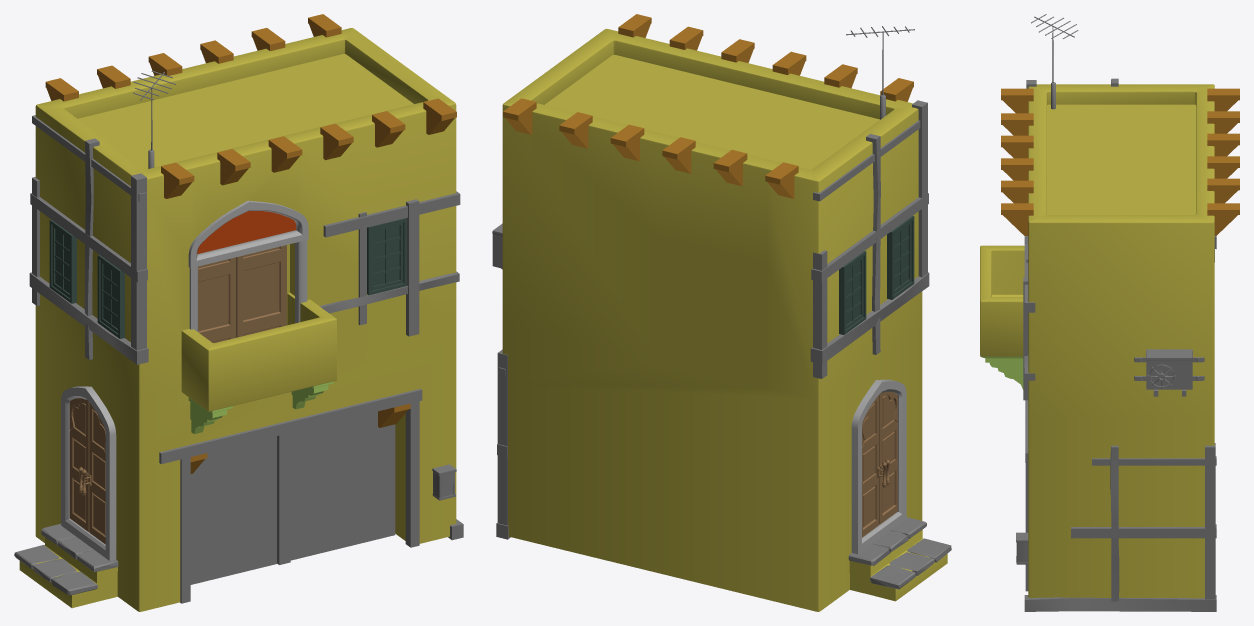
The model's file is SM_building_india_02.fbx.
The picture shows the model from 3 angles, left to right: view 1: azimuth 30°, elevation 25°; view 2: azimuth 150°, elevation 25°; view 3: azimuth 270°, elevation 25°; orthographic projection. The views are drawn at different scales.
Parts seen in each view (by area): view 1: Object32673; view 2: Object32673; view 3: Object32673.
Part boxes in pixels (x1=…): Object32673: x1=14, y1=14, x2=463, y2=611; Object32673: x1=492, y1=14, x2=951, y2=611; Object32673: x1=980, y1=14, x2=1239, y2=611.
Bounding box in the file's own units: 308 × 386 × 197.
